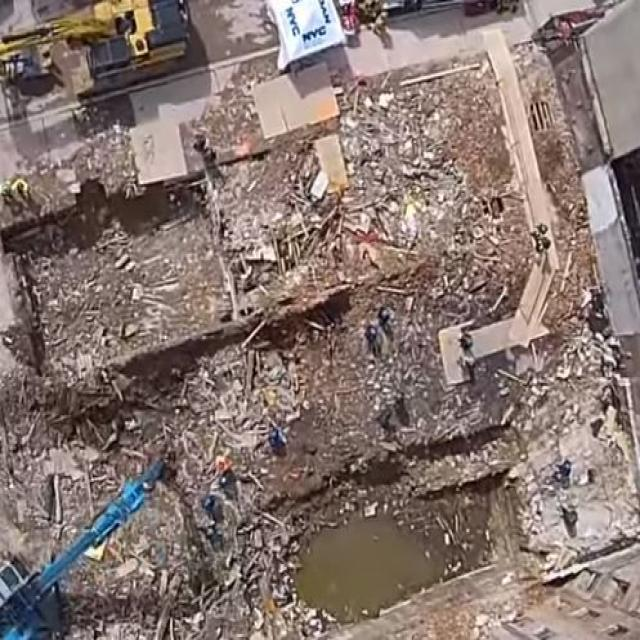collapsed_building: (1, 96, 630, 572)
